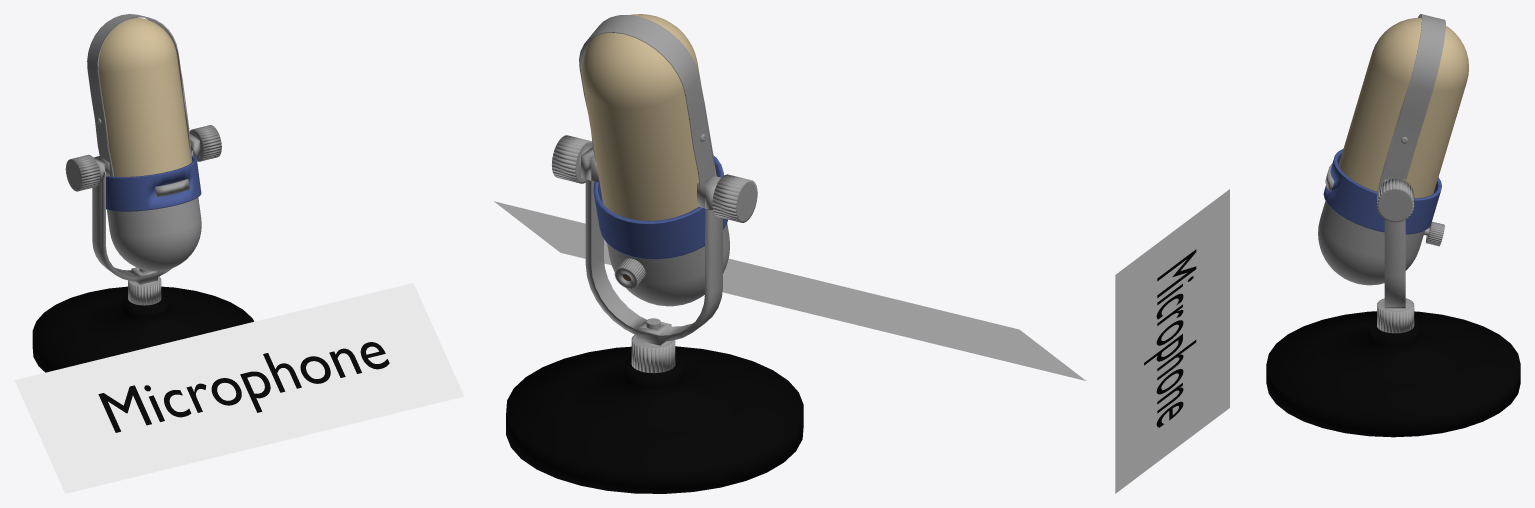
File: Microphone.gltf
The picture shows the model from 3 angles, left to right: view 1: azimuth 30°, elevation 25°; view 2: azimuth 150°, elevation 25°; view 3: azimuth 270°, elevation 25°; orthographic projection. The views are drawn at different scales.
Visible parts, largest first — view 1: Plane, microphone, Microphone; view 2: microphone, Plane; view 3: microphone, Plane, Microphone.
Boxes of the visible parts, bbox=[...] form: Plane: bbox=[14, 283, 464, 493]; microphone: bbox=[32, 14, 253, 372]; Microphone: bbox=[98, 342, 389, 432]; microphone: bbox=[506, 14, 803, 493]; Plane: bbox=[494, 201, 1085, 380]; microphone: bbox=[1266, 14, 1520, 437]; Plane: bbox=[1115, 189, 1229, 493]; Microphone: bbox=[1144, 249, 1196, 427].
Size of the model in its own units: 6.97 by 5.45 by 5.45.
